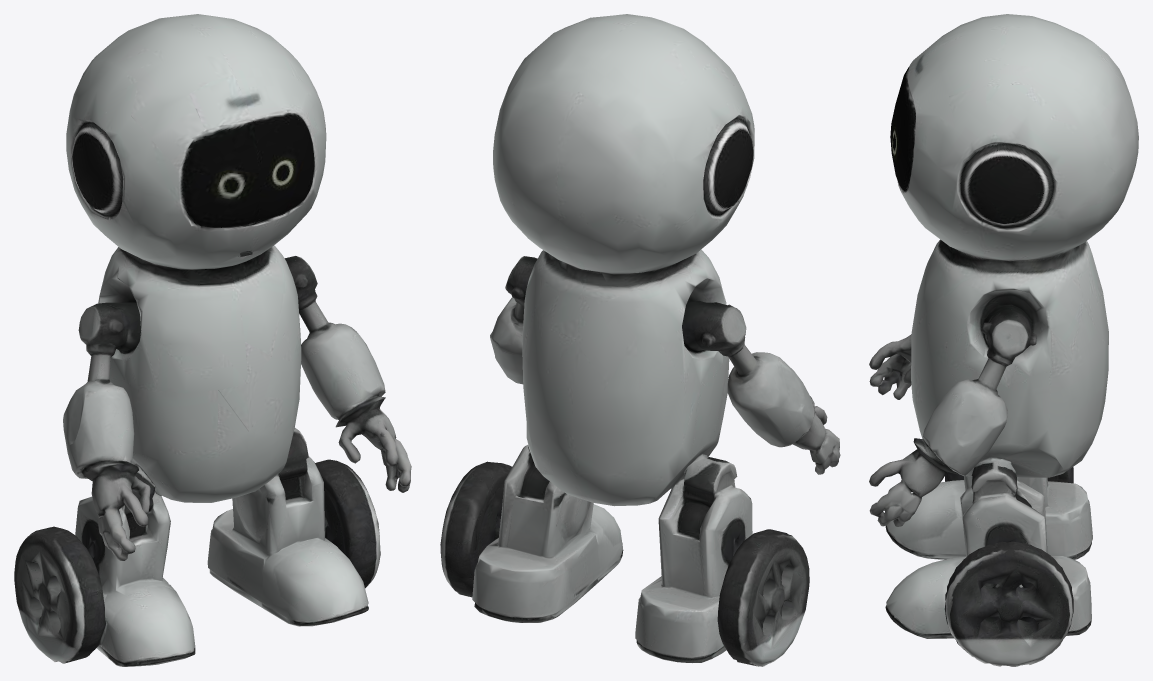
Rendered from robot-desktop.glb.
The picture shows the model from 3 angles, left to right: view 1: azimuth 30°, elevation 25°; view 2: azimuth 150°, elevation 25°; view 3: azimuth 270°, elevation 25°; orthographic projection. The views are drawn at different scales.
Parts seen in each view (by area): view 1: CODED_robot; view 2: CODED_robot; view 3: CODED_robot.
Part boxes in pixels (left/top/right/bottom): CODED_robot: left=14, top=14, right=411, bottom=666; CODED_robot: left=440, top=14, right=840, bottom=666; CODED_robot: left=869, top=14, right=1138, bottom=666.
Size of the model in its own units: 0.5429 by 1 by 0.4289.
Materials: 1 (1 with a texture image).
